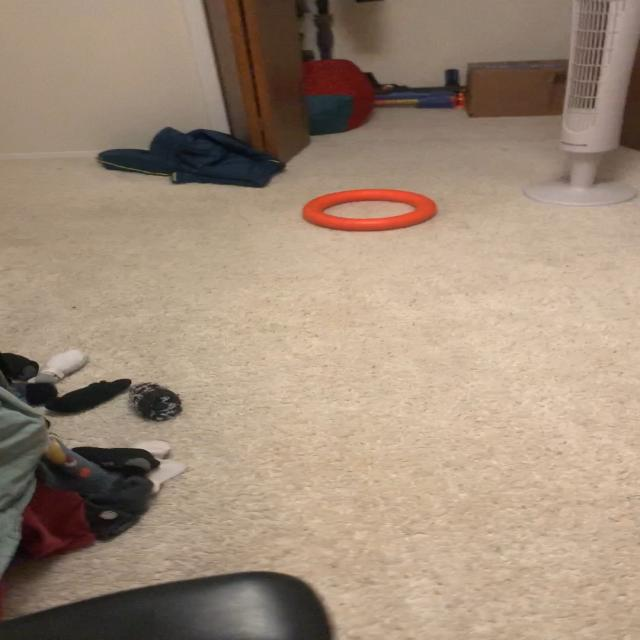notes: (302, 189, 435, 231)
